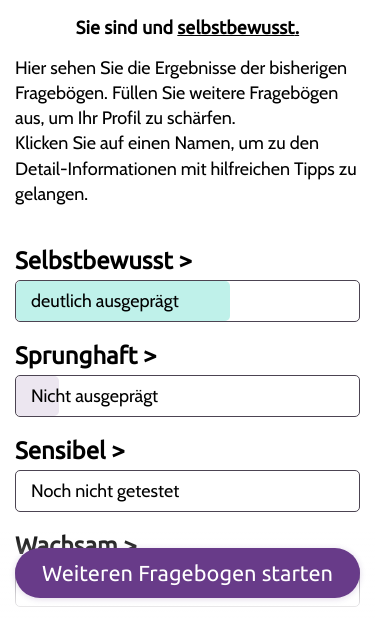
it: Result › can navigate to the details page
(page scrolled)
Click the link "Selbstbewusst > deutlich ausgeprägt" at x=188, y=285, box [15,247,360,322]
(page scrolled)
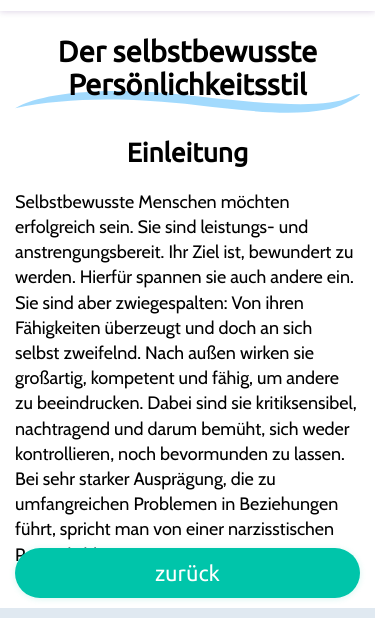
Check: the heading "Der selbstbewusste Persönlichkeitsstil" is shown, box [58,35,317,100]
